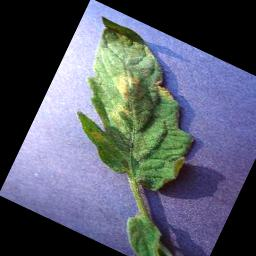Leaf_Mold: (96, 64, 150, 128)
